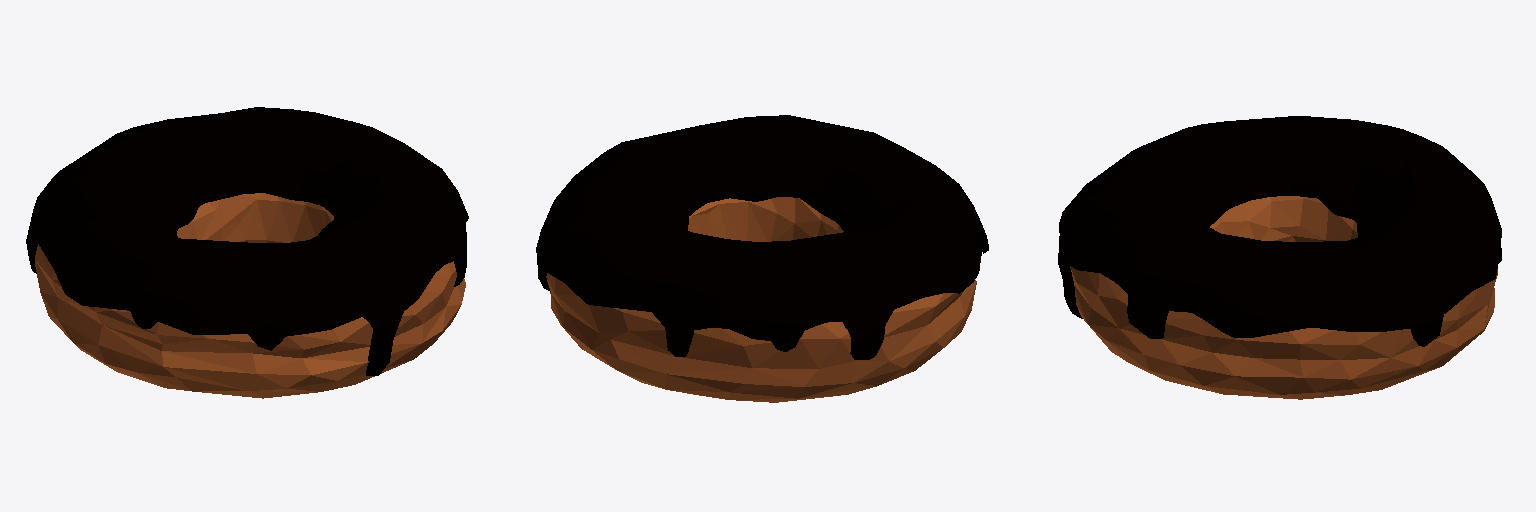
Rendered from Donutsmaller.obj.
The picture shows the model from 3 angles: view 1: azimuth 30°, elevation 25°; view 2: azimuth 150°, elevation 25°; view 3: azimuth 270°, elevation 25°; orthographic projection.
Visible parts, largest first — view 1: Icing_Torus.001, Doughnut_Torus; view 2: Icing_Torus.001, Doughnut_Torus; view 3: Icing_Torus.001, Doughnut_Torus.
Boxes of the visible parts, x1,y1,x2,y2 form: Icing_Torus.001: [26, 107, 468, 375]; Doughnut_Torus: [35, 193, 465, 398]; Icing_Torus.001: [536, 115, 988, 359]; Doughnut_Torus: [546, 197, 976, 402]; Icing_Torus.001: [1058, 116, 1501, 346]; Doughnut_Torus: [1070, 196, 1497, 399].
Size of the model in its own units: 0.1477 by 0.0553 by 0.1484.